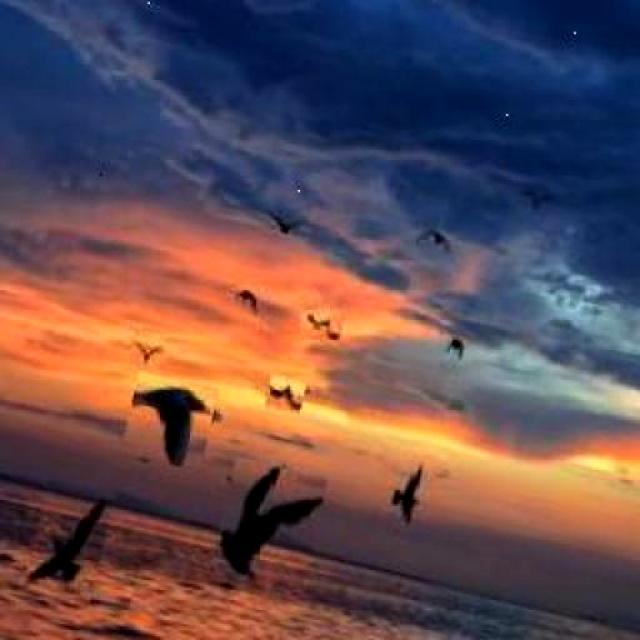airplane: (208, 456, 328, 598), (21, 478, 112, 604), (119, 370, 219, 470), (384, 455, 430, 529), (299, 302, 345, 344), (228, 281, 264, 329), (262, 375, 305, 412), (129, 331, 165, 369)
